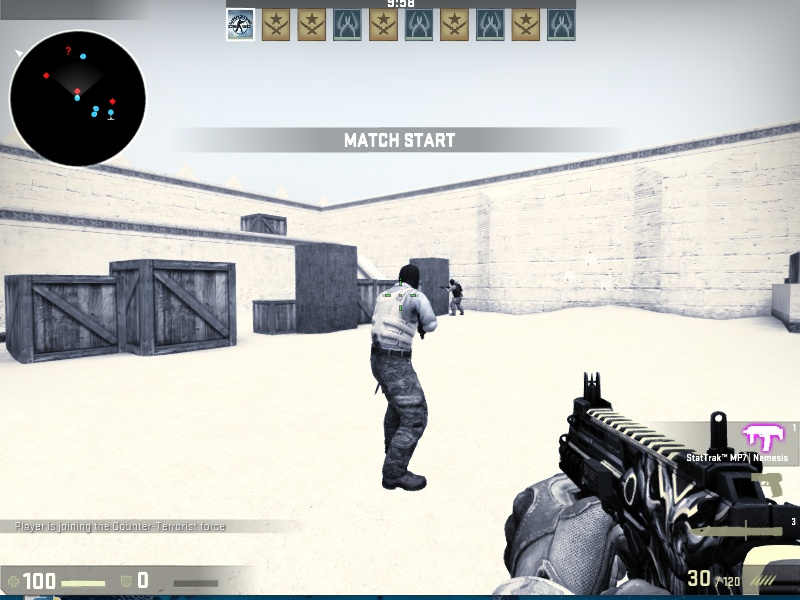t 0.97: (373, 254, 439, 497)
th 0.86: (395, 261, 427, 299)
